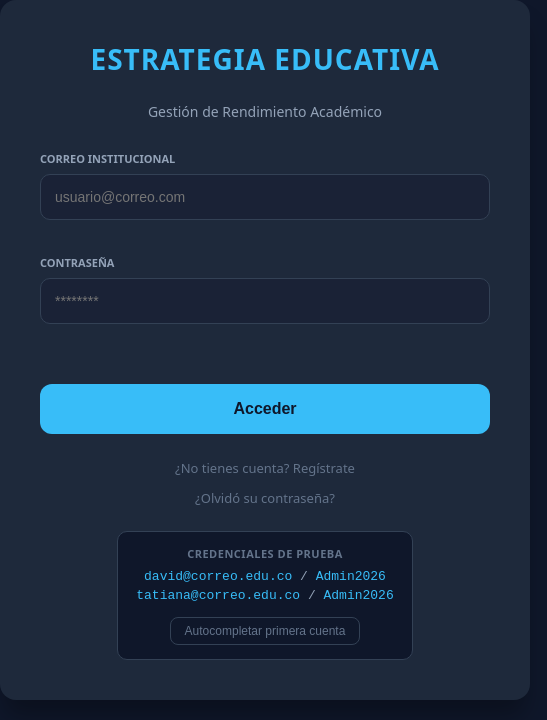
Test case: Integración - Login › muestra el mensaje de error devuelto por la API cuando las credenciales son invalidas
In the field with placeholder "usuario@correo.com": (265, 197) [40,174,490,220], type "a@b.c"
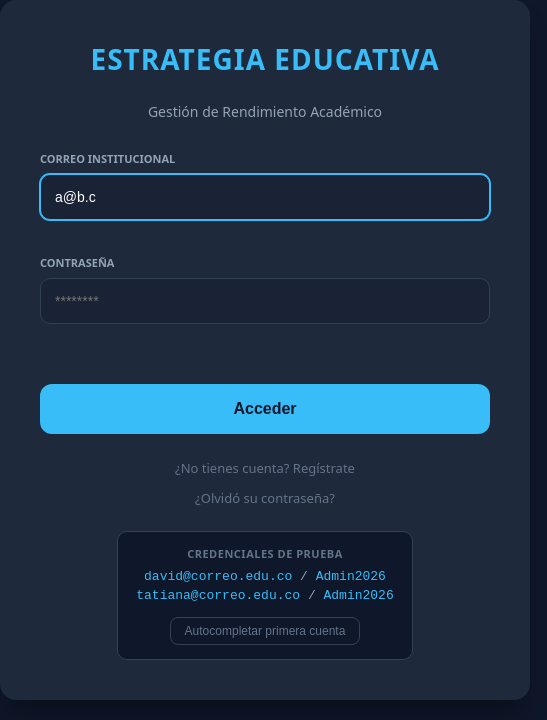
In the password field with placeholder "********": (265, 301) [40,278,490,324], type "wrong"
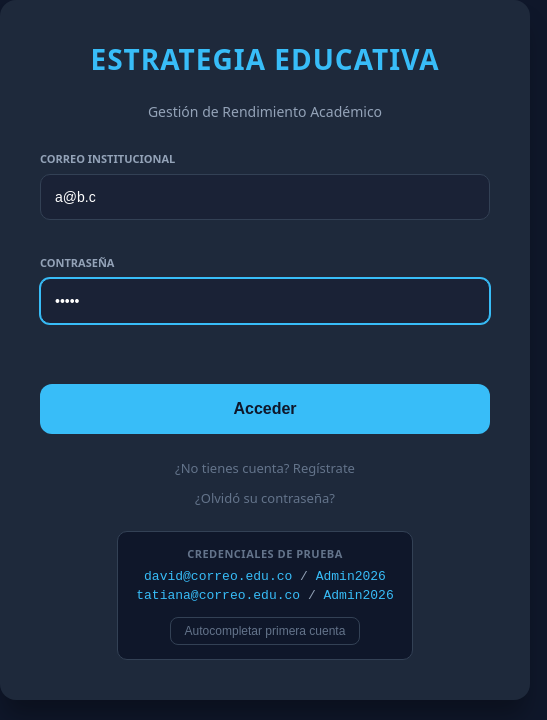
Click the button "Acceder": (265, 409) [40,384,490,434]
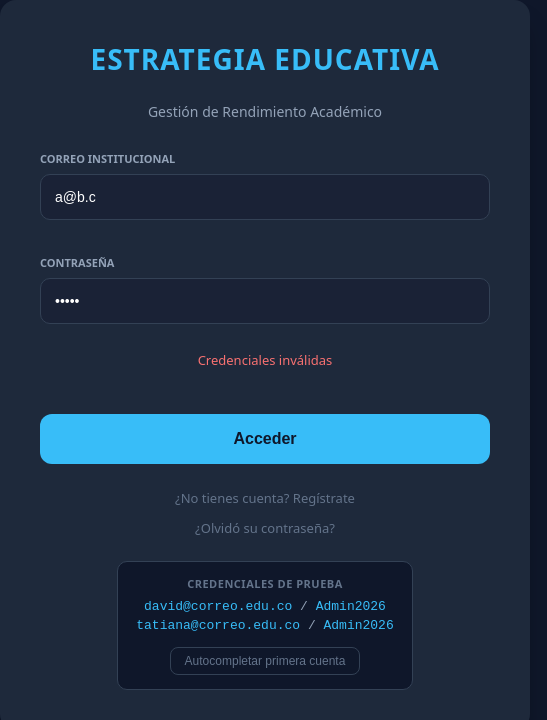
Result: the text "Credenciales inválidas" is shown at [198,351,332,369]
